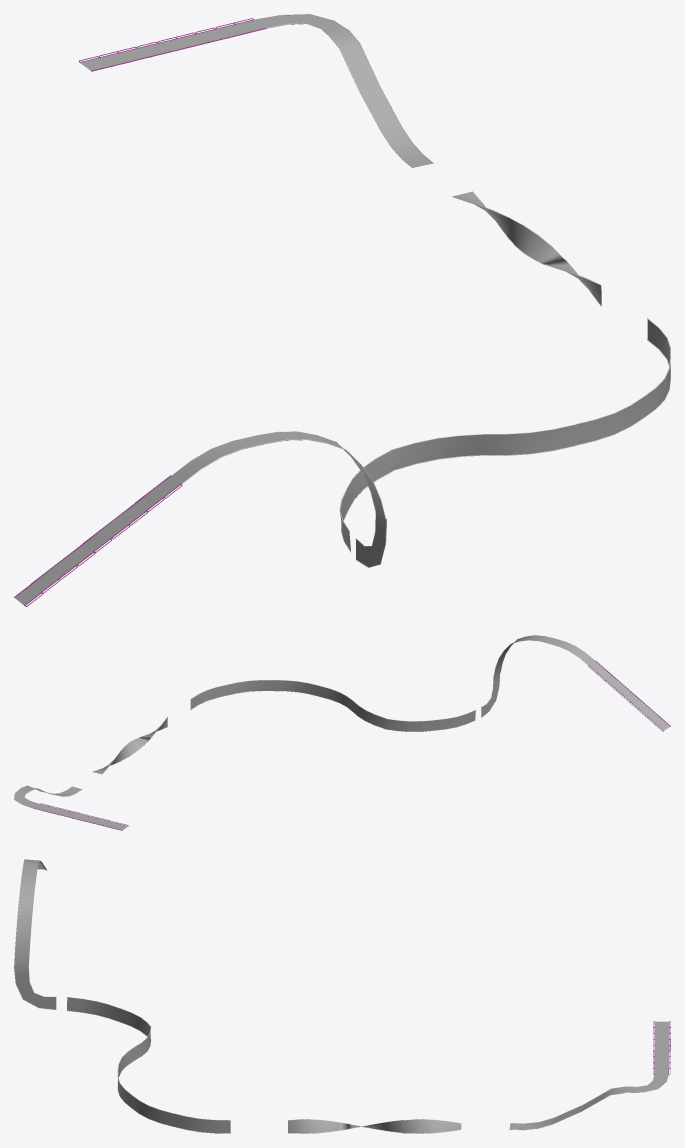
The model's file is treak2.fbx.
The picture shows the model from 3 angles, top to bottom: view 1: azimuth 30°, elevation 25°; view 2: azimuth 150°, elevation 25°; view 3: azimuth 270°, elevation 25°; orthographic projection. The views are drawn at different scales.
Parts seen in each view (by area): view 1: SM_Level2; view 2: SM_Level2; view 3: SM_Level2.
Part boxes in pixels (box(x1,y1,x2,y2)): SM_Level2: box(14, 14, 670, 606); SM_Level2: box(14, 635, 670, 830); SM_Level2: box(14, 859, 670, 1133).
Bounding box in the file's own units: 120084 × 23660 × 136577.
